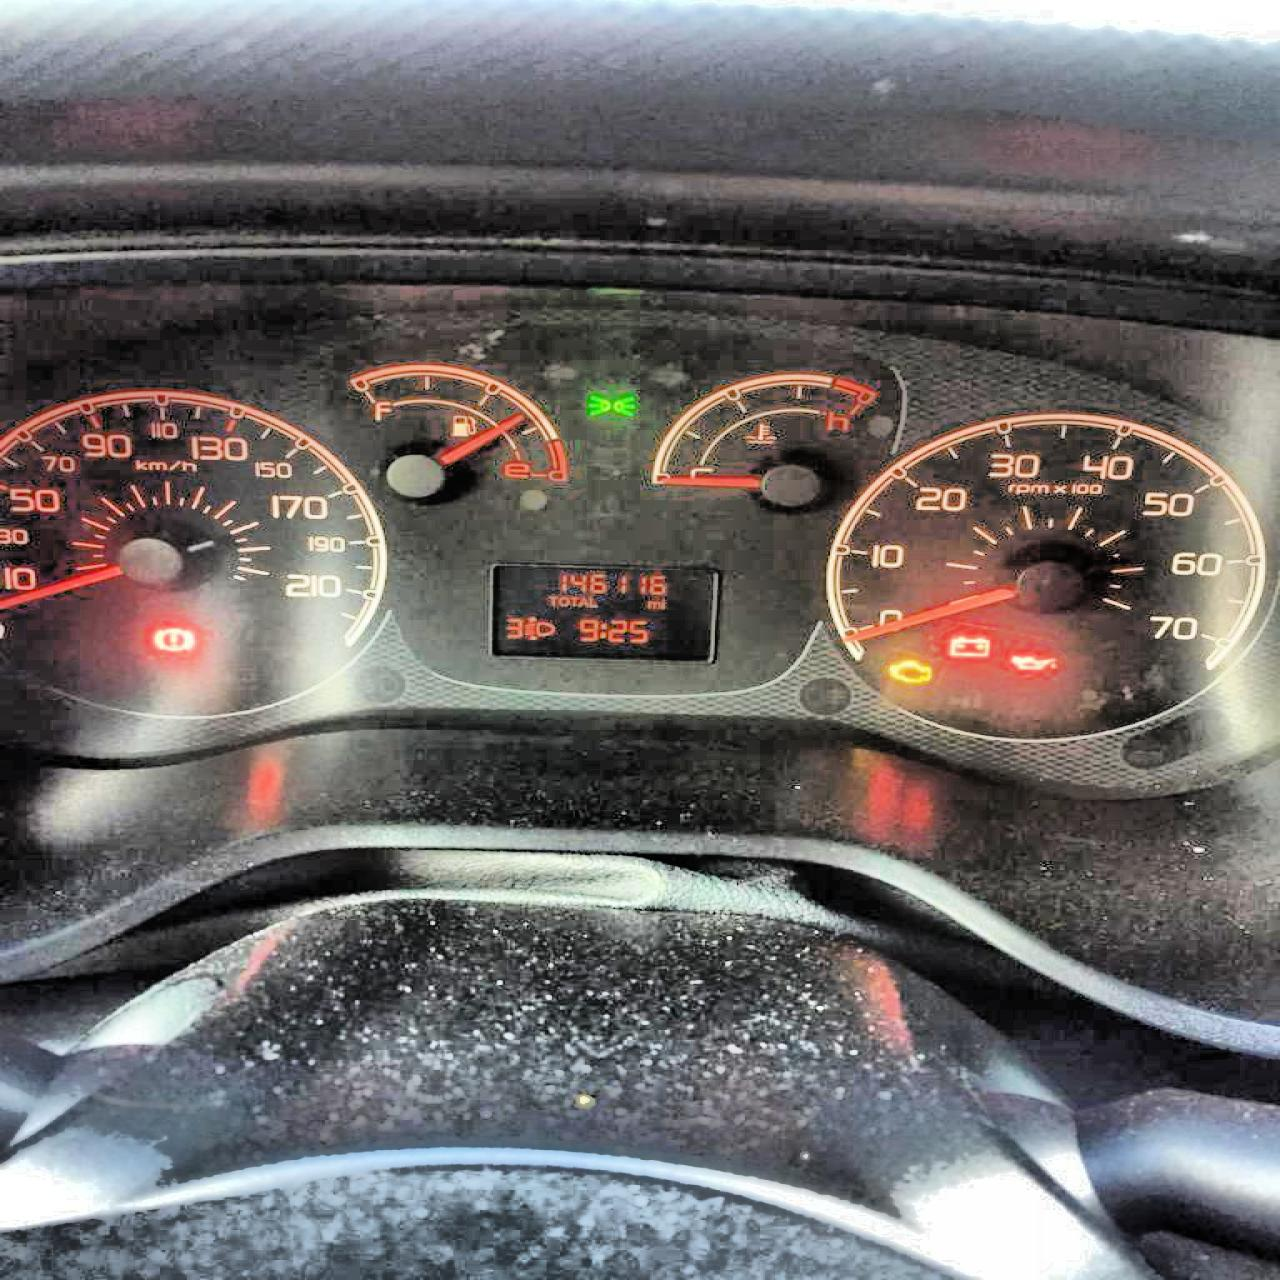1: (554, 572, 568, 592), (614, 573, 628, 592), (635, 576, 647, 594)
2: (605, 618, 627, 642)
3: (502, 617, 522, 638)
4: (568, 573, 587, 591)
5: (627, 619, 648, 642)
6: (586, 572, 606, 592), (647, 574, 667, 594)
9: (576, 618, 597, 641)
X: (645, 599, 660, 610), (545, 594, 557, 606), (586, 594, 597, 607), (557, 595, 568, 606), (598, 621, 605, 638), (578, 595, 587, 606), (568, 595, 577, 606), (660, 598, 663, 608)
odometer: (485, 560, 723, 665)
